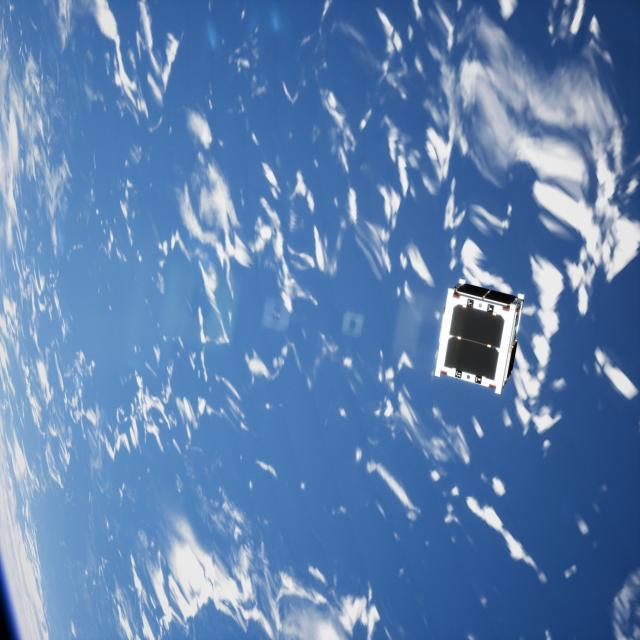medium_debris: (436, 275, 530, 387)
